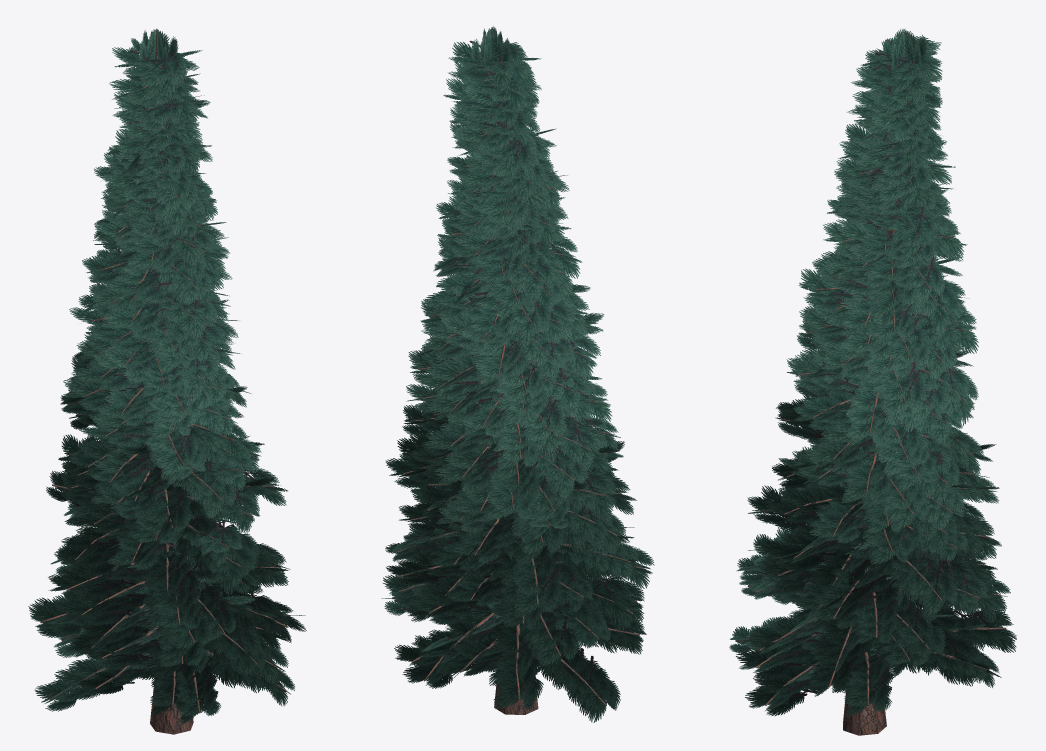
The model's file is nature-green-tall-fir_v2.glb.
3 renders of one model, left to right at view 1: azimuth 30°, elevation 25°; view 2: azimuth 150°, elevation 25°; view 3: azimuth 270°, elevation 25°, orthographic. The views are drawn at different scales.
Visible parts, largest first — view 1: nature-green-tall-fir; view 2: nature-green-tall-fir; view 3: nature-green-tall-fir.
Part boxes in pixels (x1,y1,x2,y2): nature-green-tall-fir: (28, 28, 306, 734); nature-green-tall-fir: (381, 26, 654, 722); nature-green-tall-fir: (729, 28, 1016, 735).
Size of the model in its own units: 6.43 by 15.27 by 6.39.
Materials: 2 (2 with a texture image).
